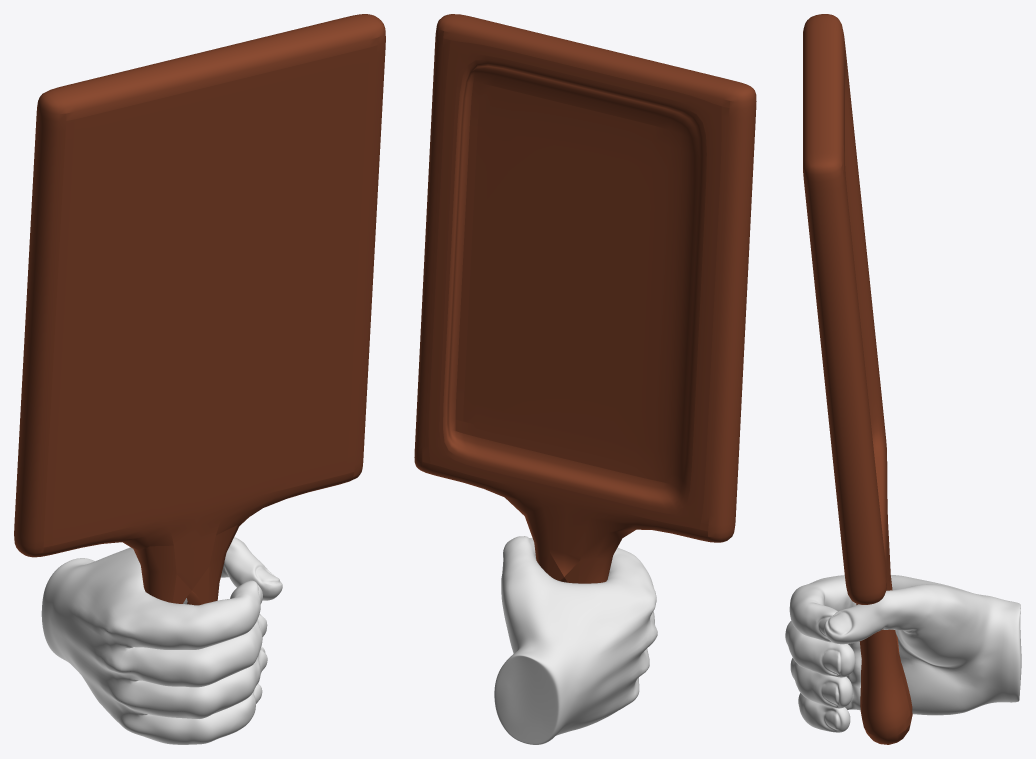
The model's file is правая с доской.fbx.
3 renders of one model, left to right at view 1: azimuth 30°, elevation 25°; view 2: azimuth 150°, elevation 25°; view 3: azimuth 270°, elevation 25°, orthographic. The views are drawn at different scales.
Parts seen in each view (by area): view 1: правая рука.001; view 2: правая рука.001; view 3: правая рука.001.
Boxes of the visible parts, x1,y1,x2,y2 form: правая рука.001: (14,14,385,744); правая рука.001: (414,14,756,744); правая рука.001: (785,14,1021,744).
Size of the model in its own units: 17.46 by 34.01 by 11.2.
